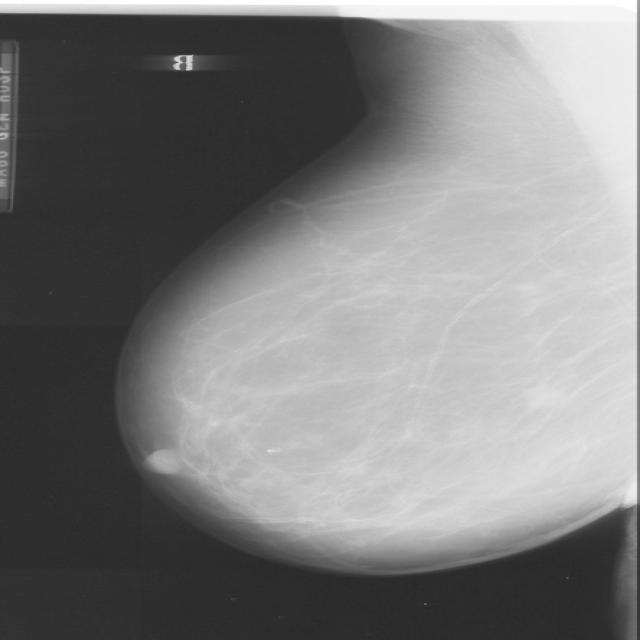tumour: (520, 384, 566, 407)
